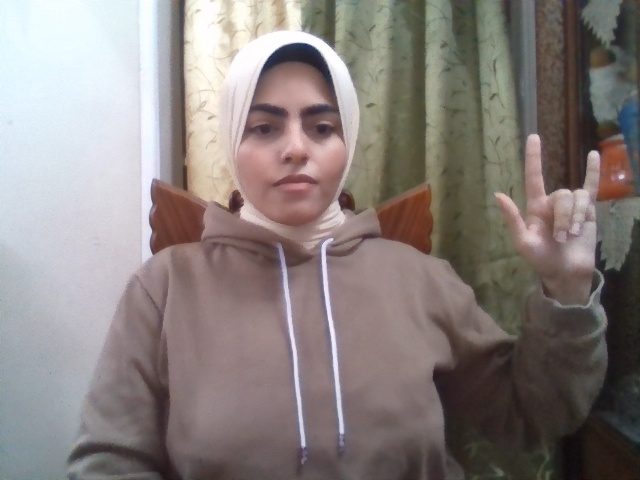iloveyou: (494, 134, 601, 285)
